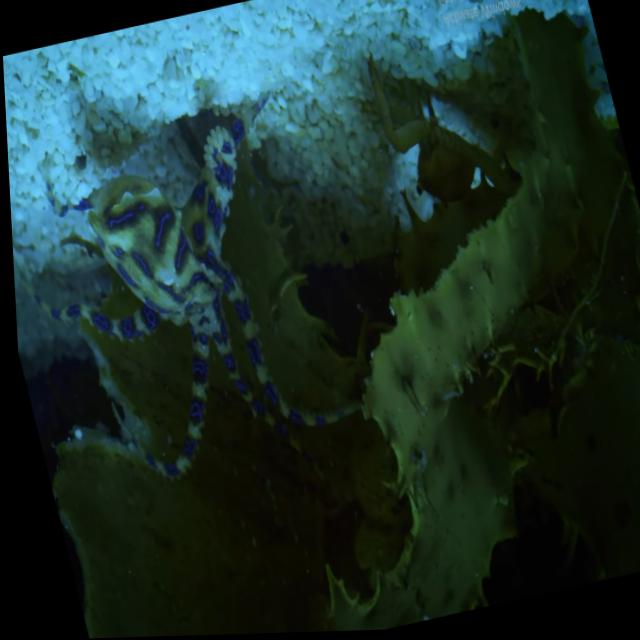blue_ringed_octopus: (4, 86, 391, 587)
